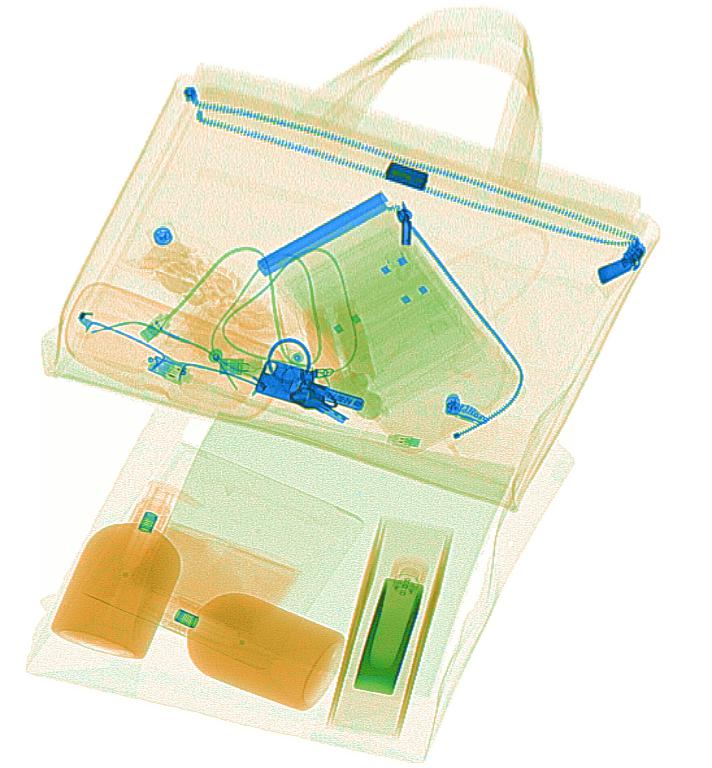plasticBottleWithaNozzle: (130, 575, 345, 711), (48, 475, 203, 657)
